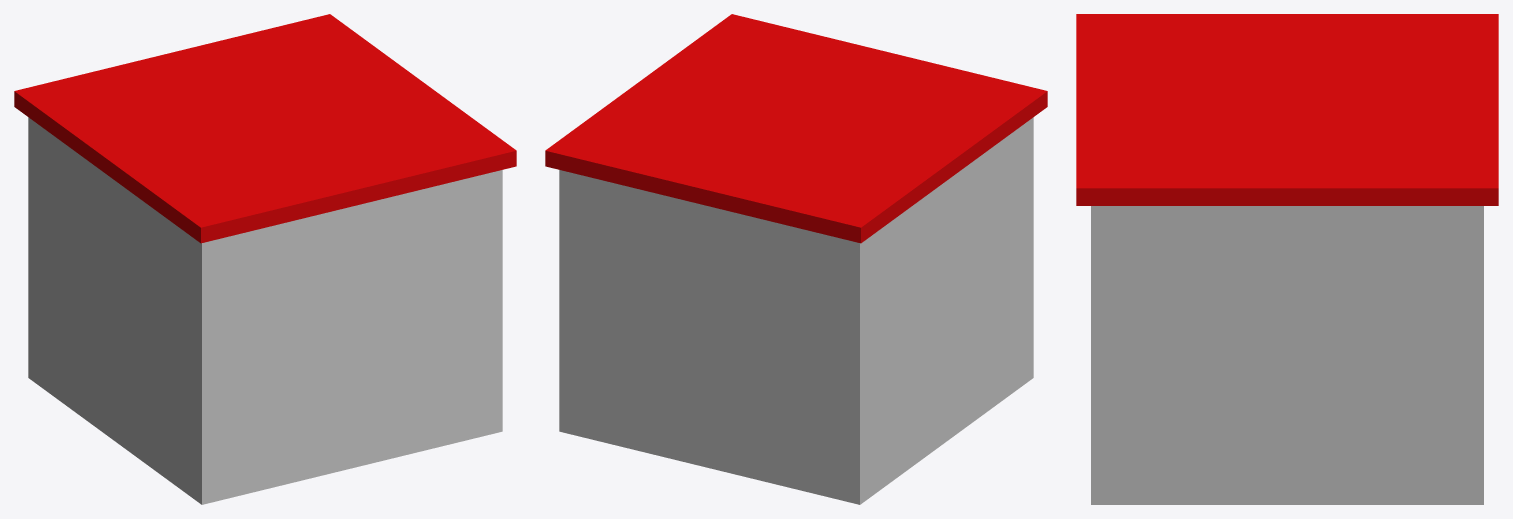
Rendered from House2.fbx.
3 views of the same model, side by side, from view 1: azimuth 30°, elevation 25°; view 2: azimuth 150°, elevation 25°; view 3: azimuth 270°, elevation 25° (orthographic). The views are drawn at different scales.
Visible parts, largest first — view 1: House2_LOD0, House2_LOD0.001; view 2: House2_LOD0, House2_LOD0.001; view 3: House2_LOD0, House2_LOD0.001.
Boxes of the visible parts, x1,y1,x2,y2 form: House2_LOD0: (28, 117, 502, 504); House2_LOD0.001: (14, 14, 516, 243); House2_LOD0: (559, 117, 1033, 504); House2_LOD0.001: (545, 14, 1047, 243); House2_LOD0: (1091, 206, 1483, 504); House2_LOD0.001: (1076, 14, 1498, 205).
Size of the model in its own units: 525 by 450 by 537.
